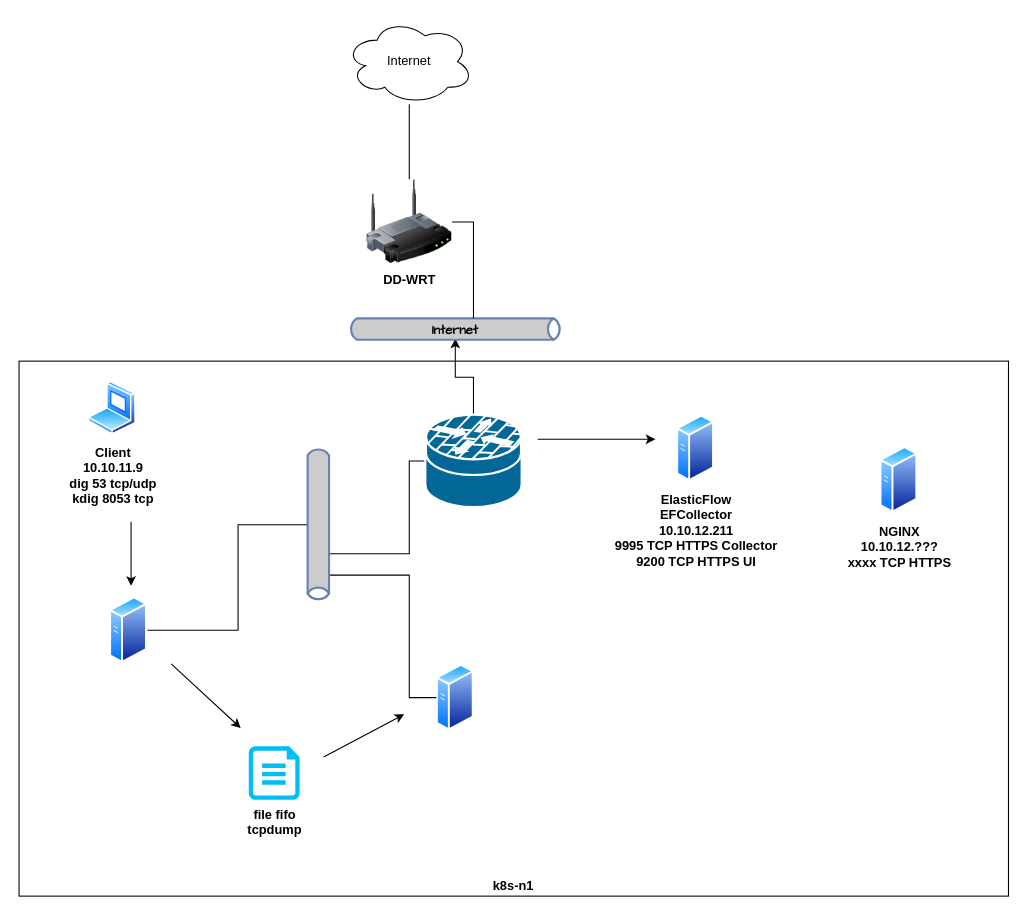
Image size: 1027x915. Some labels were removed from this diagram. Each missing label, with the centre of its shape:
ARKIME 10.10.12.211 8005 TCP HTTPS http://10.10.12.211:8005/sessions admin admin: point 455,697
Firewall 10.10.12.254: point 473,460
Lan 10.10.12.0/24: point 318,523
NS1 10.10.12.211 53 TCP/UDP 8053 TCP DOH: point 128,629
